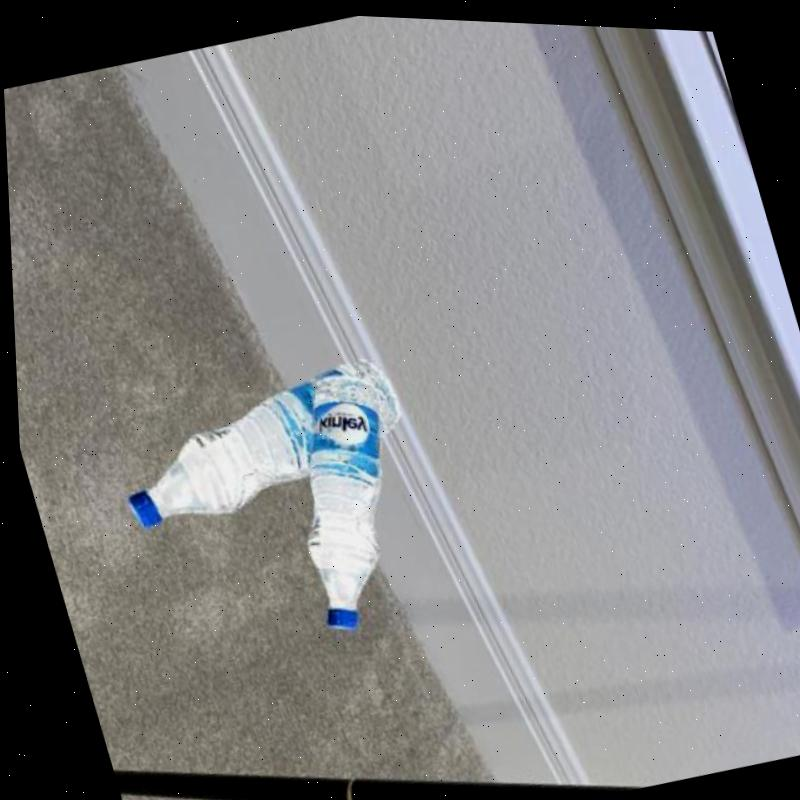botella: (97, 339, 419, 542), (254, 357, 439, 636)
